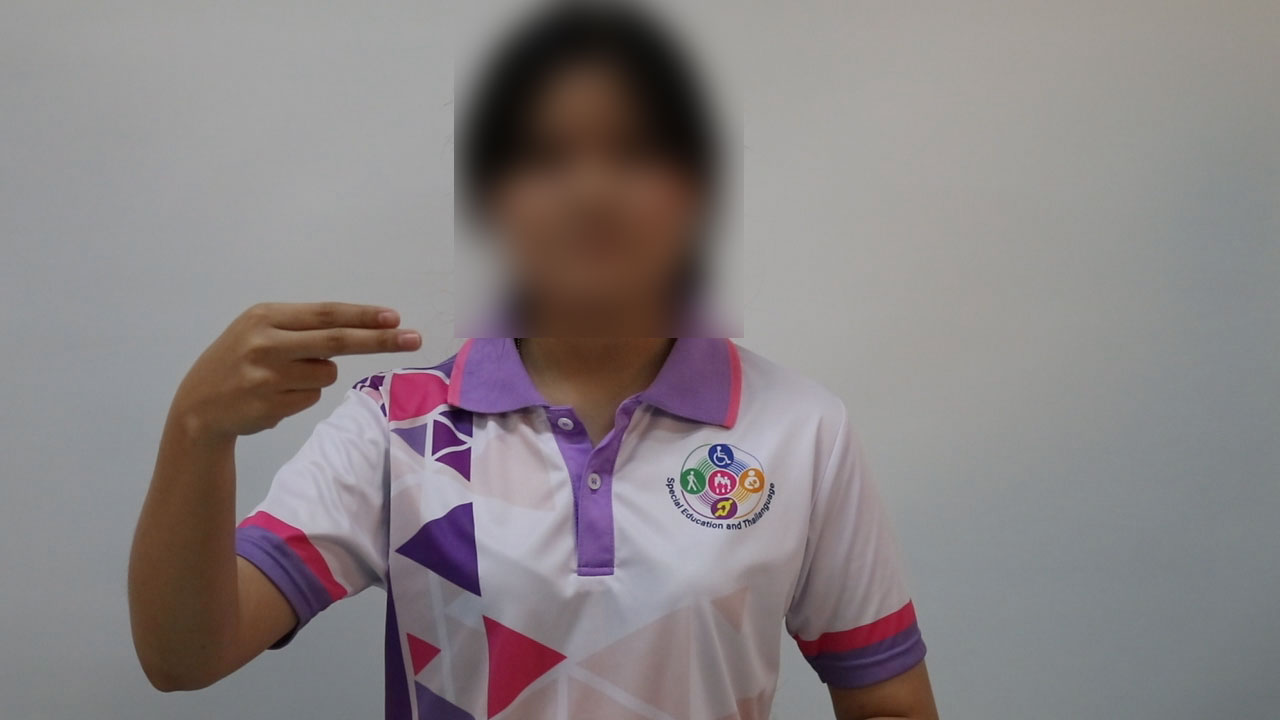hor: (147, 274, 438, 455)
